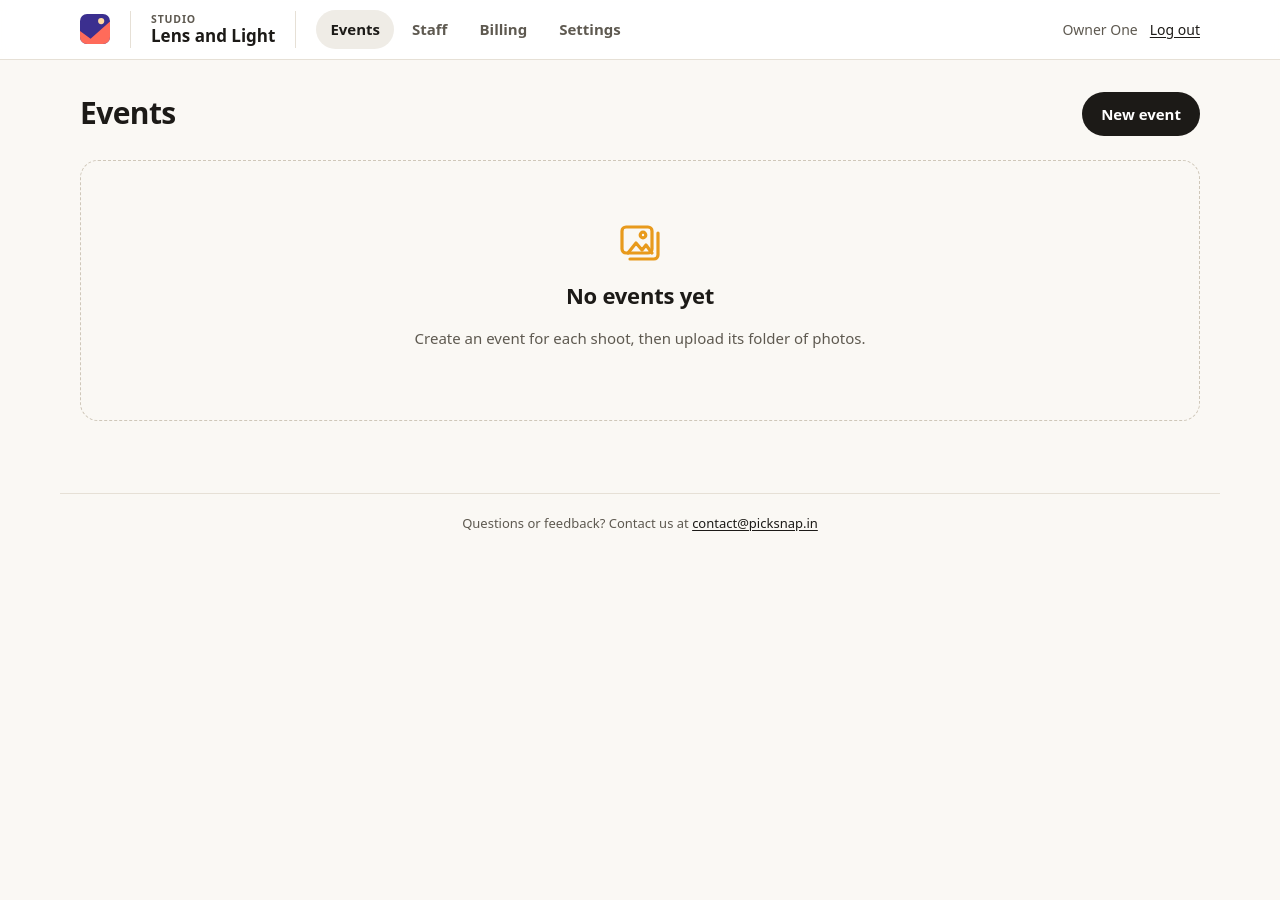
Test case: events › cancelling closes the form without sending anything
Expected: the heading "No events yet" is shown, [566,280,714,310]
What coordinates should you click on to do the following:
click the button "New event"
I would click on:
 (1141, 114)
Its box is [1082,92,1200,136].
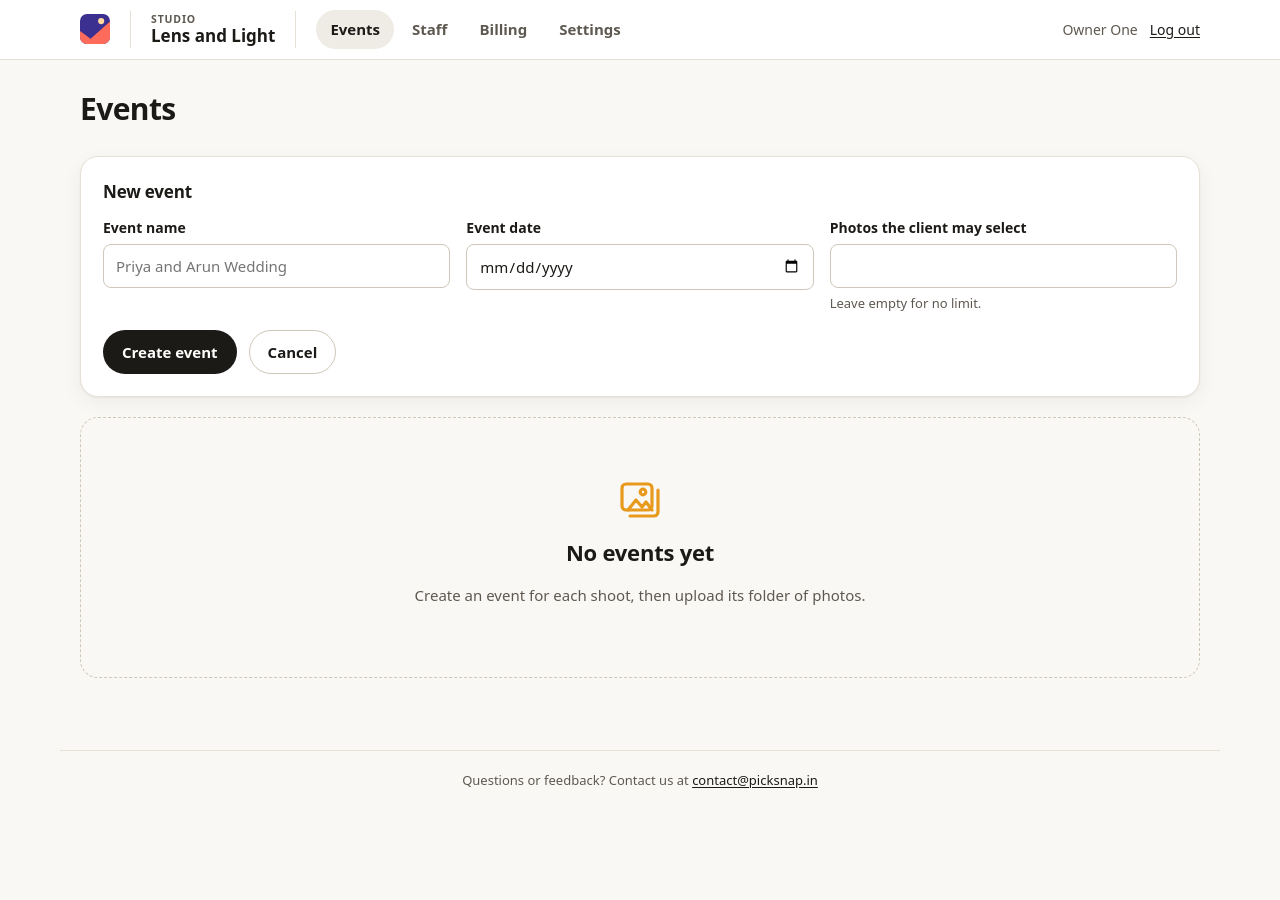
What coordinates should you click on to do the following:
click the button "Cancel"
I would click on:
 (292, 352)
Its box is [249,330,336,374].
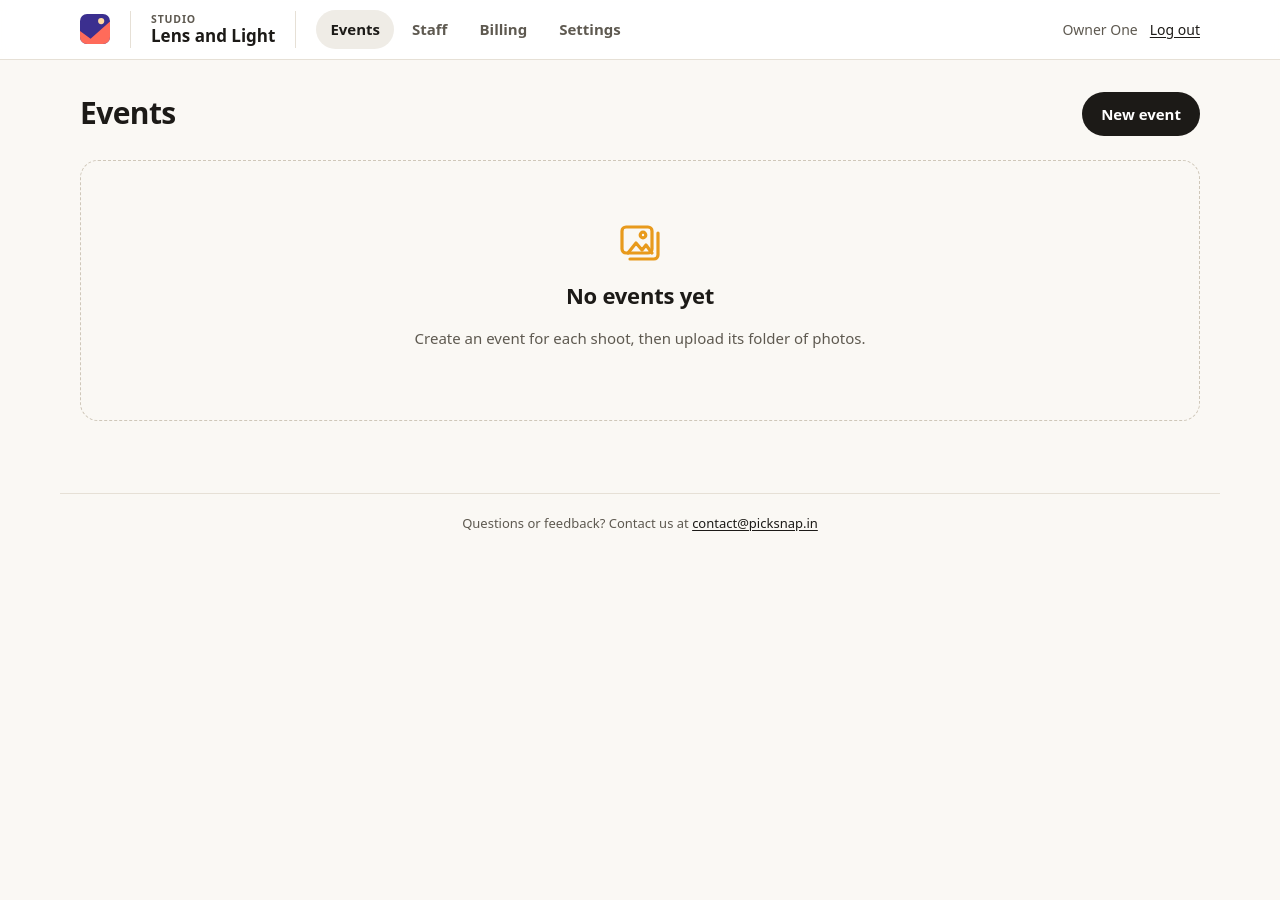
Expected: the button "New event" is shown, [1082,92,1200,136]
